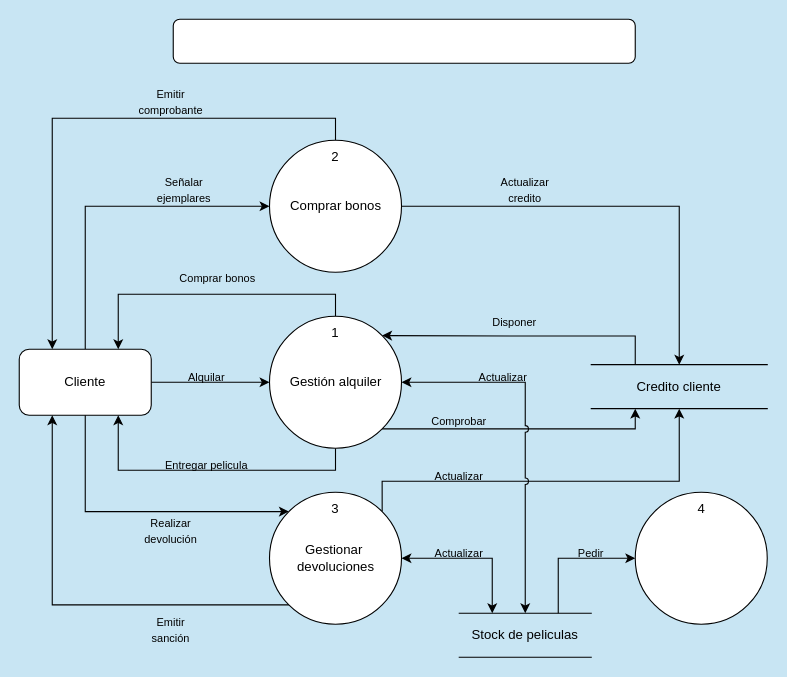
This 787x677 diagram has some shape labels left out. The shapes that lost their labels are listed below. From the top down, each one's box as (x1, y1, x2, y2) in pixels, then its label:
(172, 18, 635, 63): Diagrama 0: Gestinar Videoclub
(634, 491, 767, 624): Pedido proveedores
